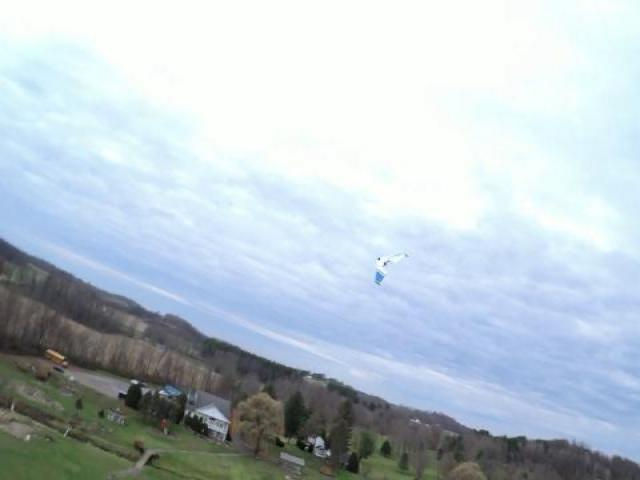flying wing: (373, 248, 408, 289)
